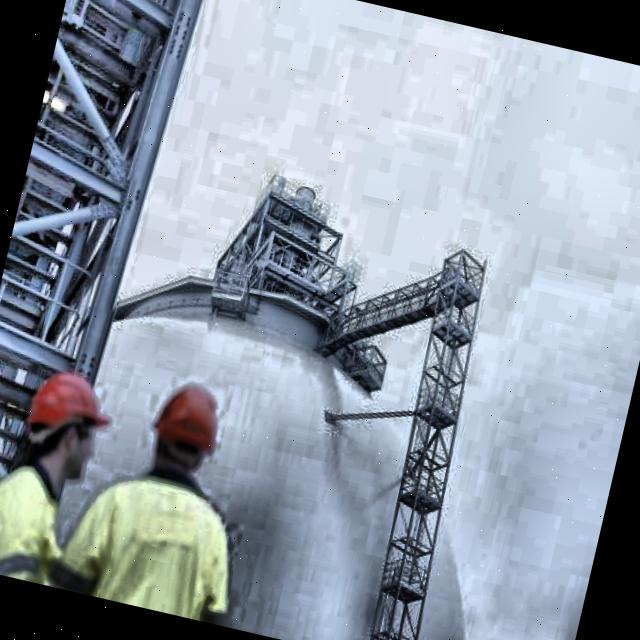helmet: (11, 360, 121, 485), (136, 367, 234, 492)
